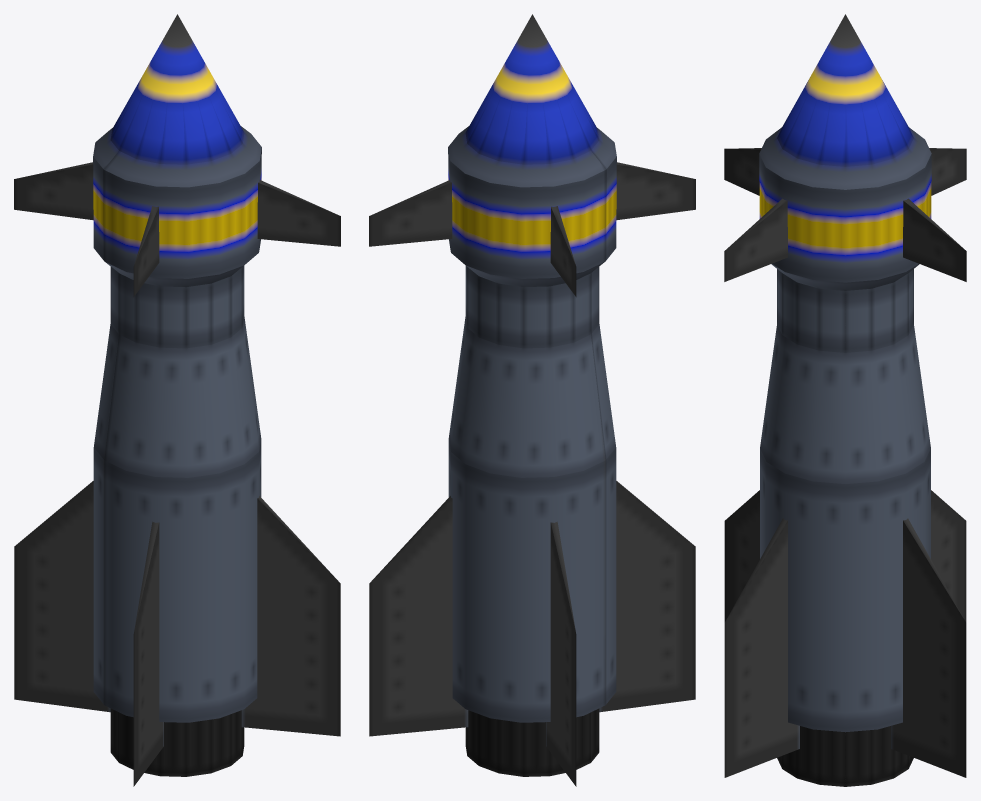
The model's file is missile_emp_strong.obj.
3 renders of one model, left to right at view 1: azimuth 30°, elevation 25°; view 2: azimuth 150°, elevation 25°; view 3: azimuth 270°, elevation 25°, orthographic.
Parts seen in each view (by area): view 1: missile_emp_strong; view 2: missile_emp_strong; view 3: missile_emp_strong.
Boxes of the visible parts, <box> form: missile_emp_strong: <box>14,14,340,786</box>; missile_emp_strong: <box>369,14,695,786</box>; missile_emp_strong: <box>724,14,966,786</box>.
Size of the model in its own units: 1.77 by 6 by 1.77.
